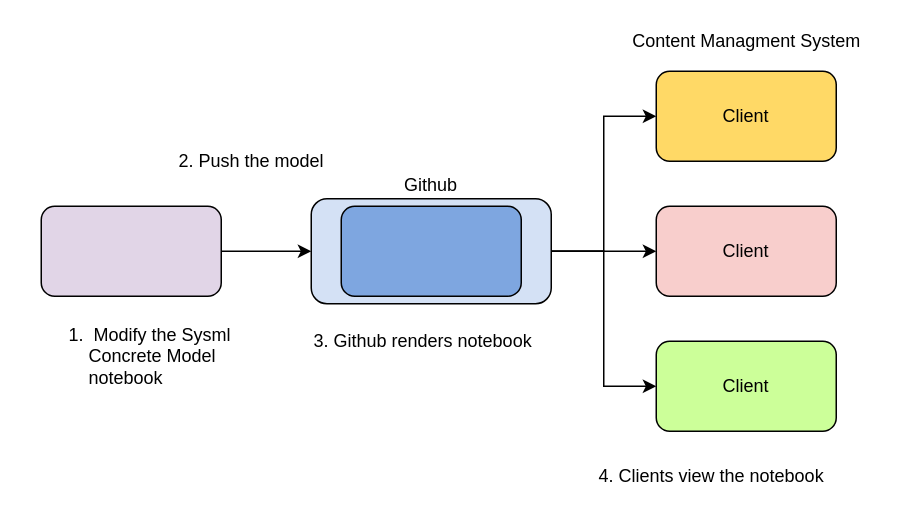
Some shapes in this 912 by 516 pixel diagram are drawn without their labels. The centre of each missing label's shape, as x and y in pixels:
"notebook renderer" belongs at [430,250].
"SysMLv2 Kernel" belongs at [130,250].
